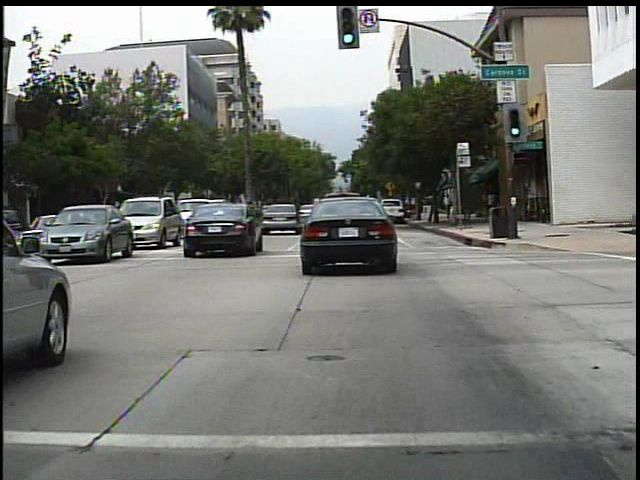person: (439, 190, 458, 223)
